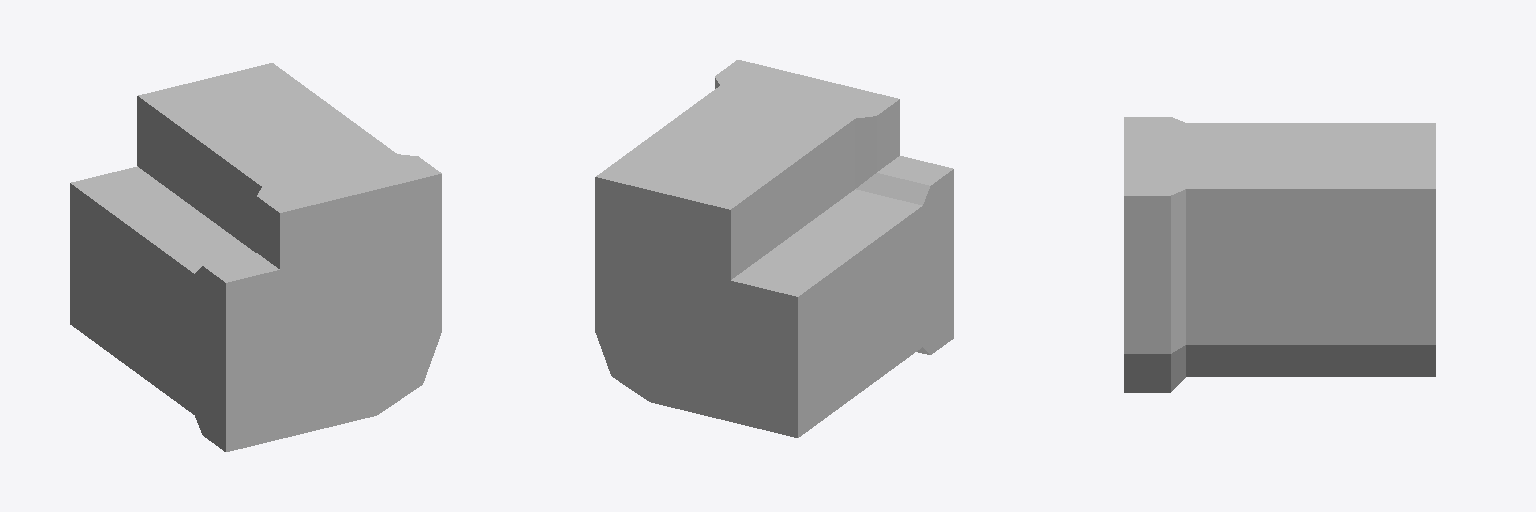
The model's file is wall-corner.obj.
3 views of the same model, side by side, from view 1: azimuth 30°, elevation 25°; view 2: azimuth 150°, elevation 25°; view 3: azimuth 270°, elevation 25° (orthographic).
Visible parts, largest first — view 1: wall-corner.004; view 2: wall-corner.004; view 3: wall-corner.004.
Part boxes in pixels (bbox=[...]): wall-corner.004: bbox=[70, 63, 441, 451]; wall-corner.004: bbox=[595, 60, 953, 437]; wall-corner.004: bbox=[1124, 117, 1435, 392].
Bounding box in the file's own units: 0.8 × 0.8 × 1.